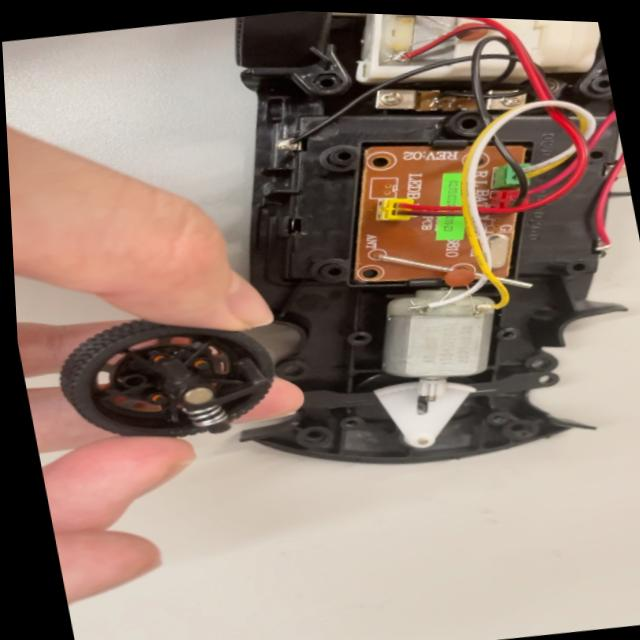motor: (349, 269, 513, 418)
wheel: (53, 299, 309, 471)
